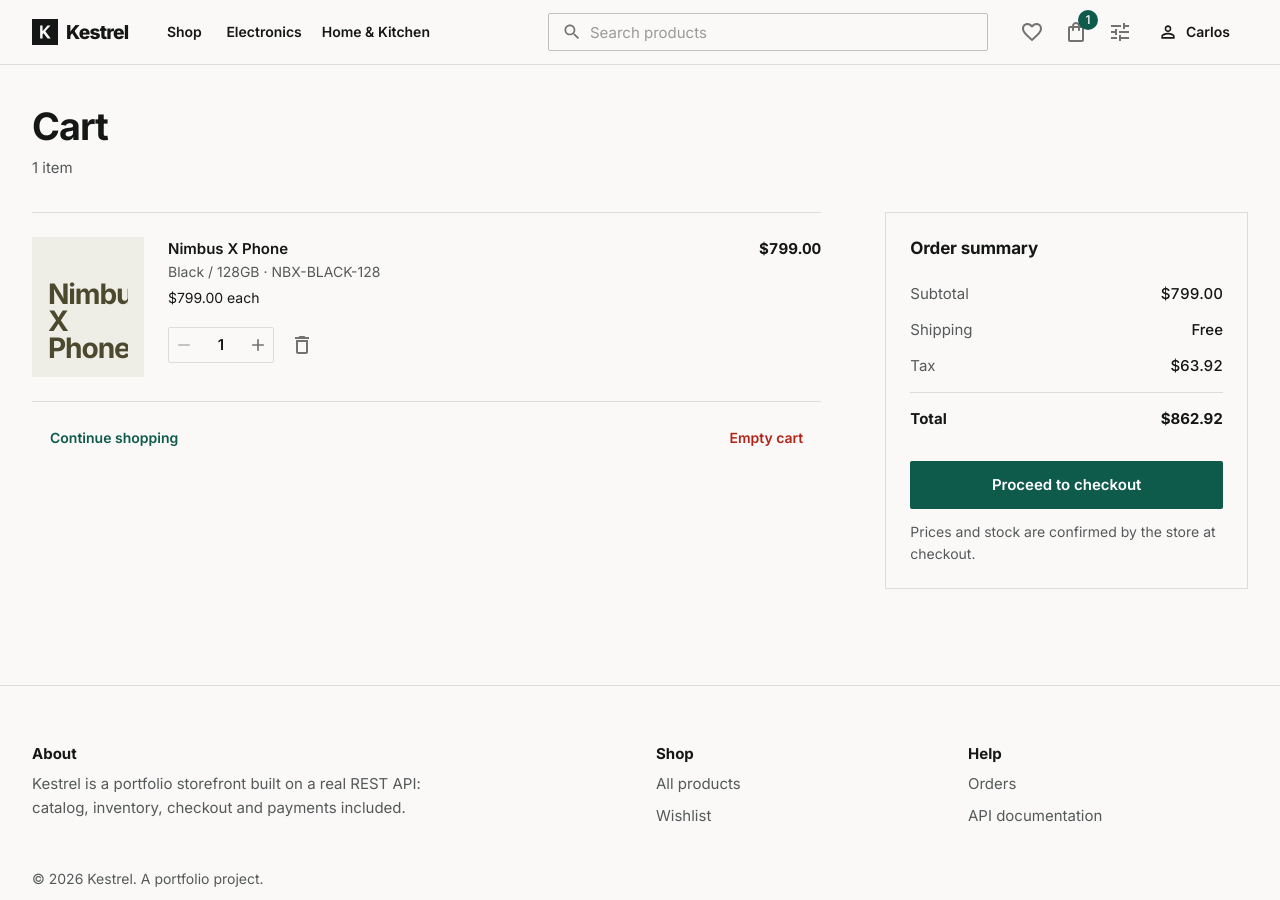
Test: cart page › removes a line
Click the button named "Remove Nimbus X Phone": (302, 345) [282,325,322,365]
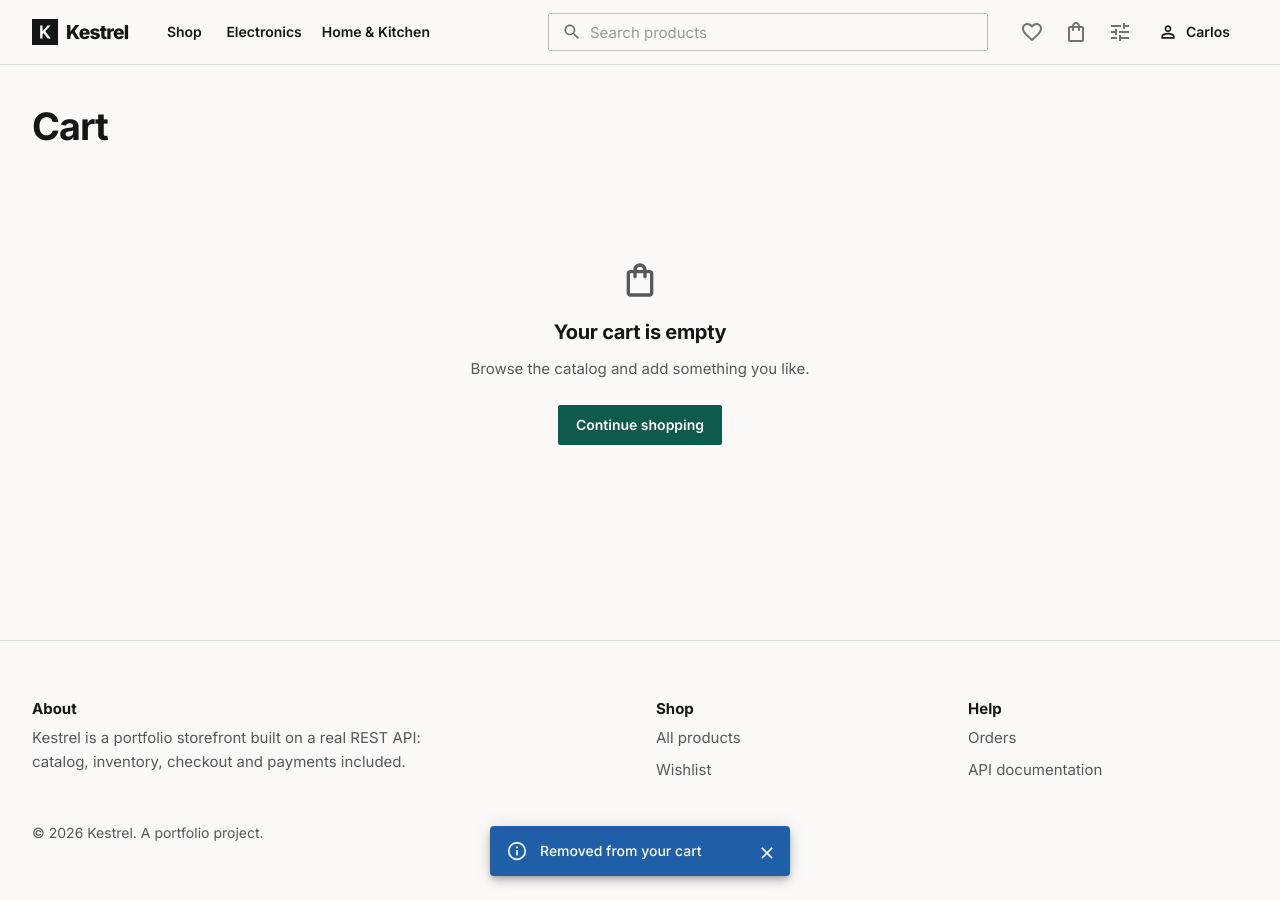
Now the heading "Your cart is empty" is shown, box [554,319,726,345]
